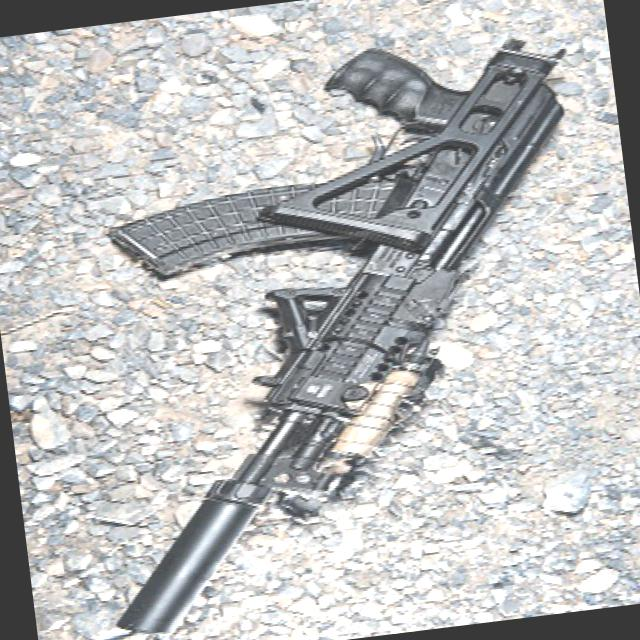long weapon: (36, 19, 639, 639)
